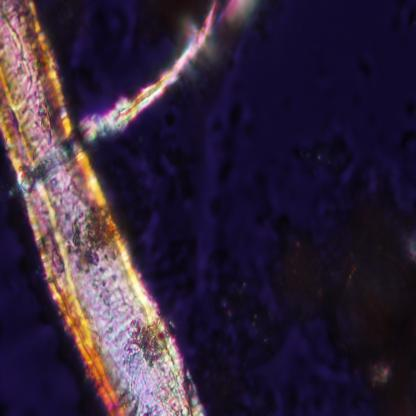Cellulose filter fibre: (66, 0, 237, 155)
Microfibre: (0, 0, 204, 414)
